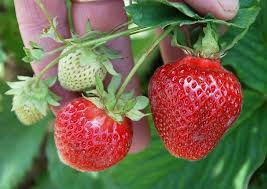ripe: (146, 54, 244, 173), (52, 95, 138, 175)
unripe: (57, 39, 111, 97), (8, 77, 54, 130)
